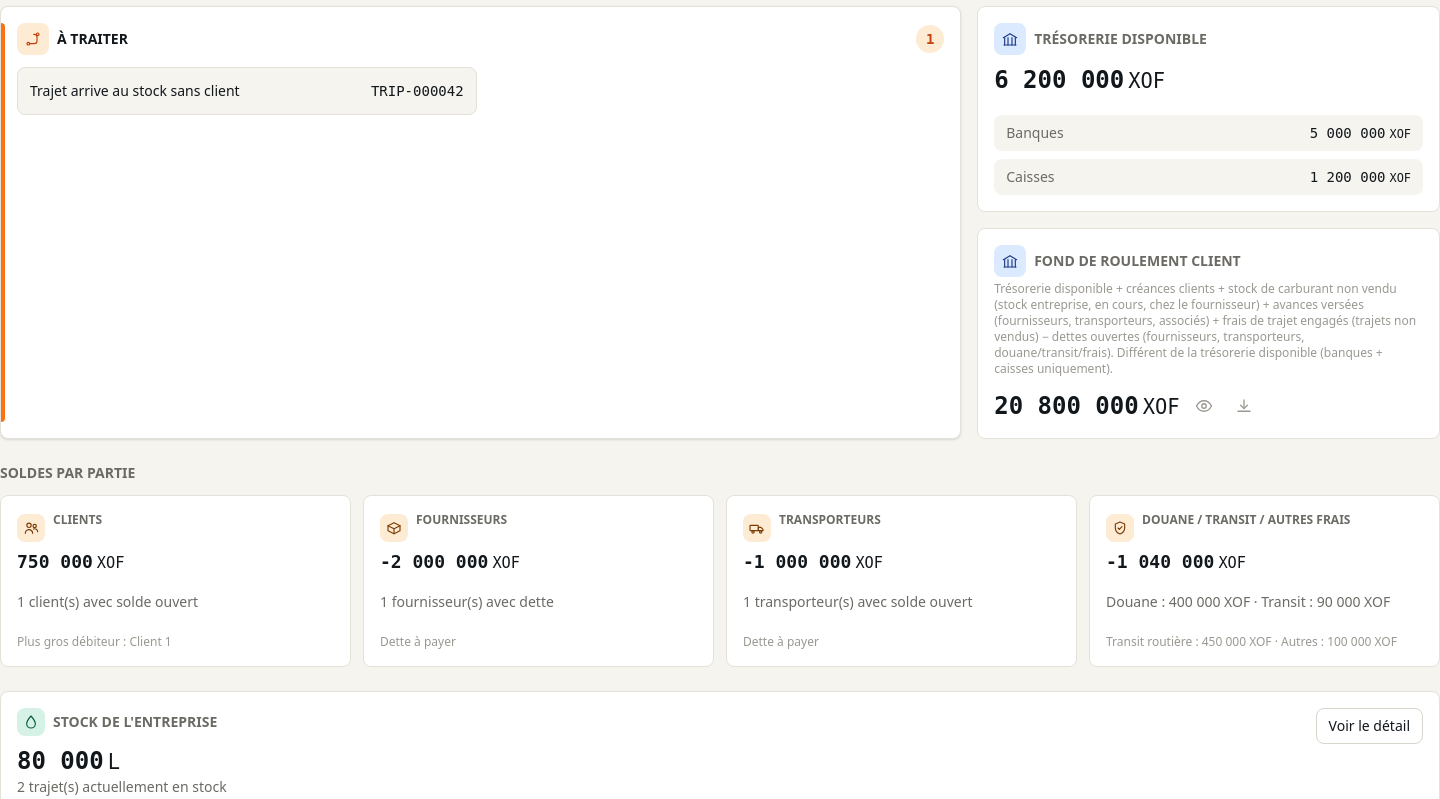
Test: DashboardView › shows what is owed to the associates as an information line that does not change the total
(page scrolled)
Click the button with test id "working-capital-toggle" at (1204, 406), box [1188,390,1220,422]
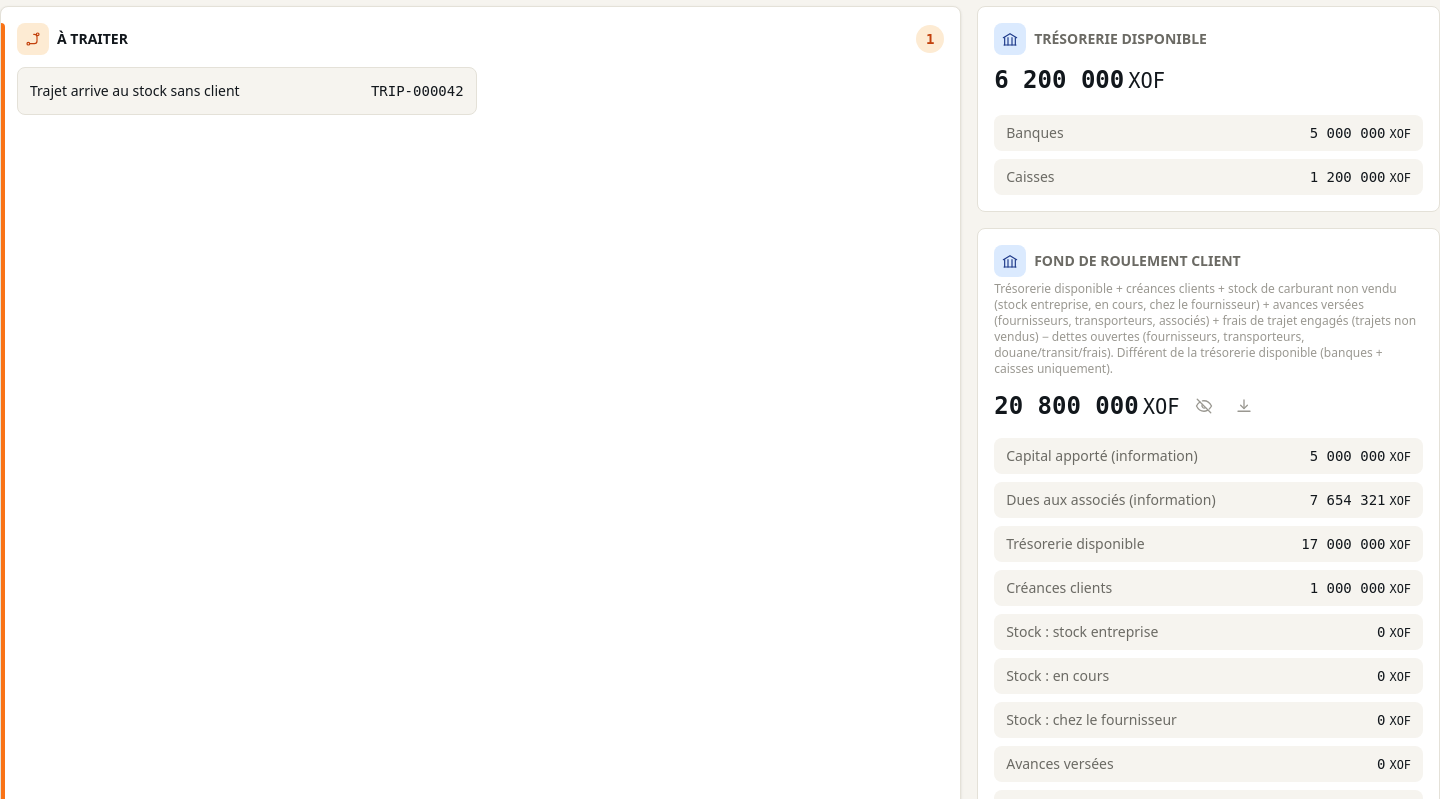
Check: the text "20 800 000 XOF" is shown, box [994,390,1180,422]
Check: the element showing "Dues aux associés (information) 7 654 321 XOF" is shown, box [994,482,1423,518]
